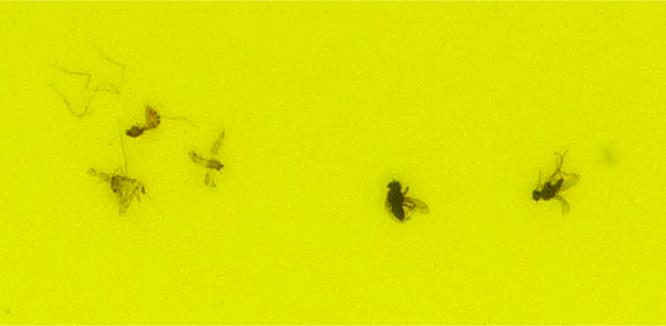Brachycera: (381, 176, 425, 226), (527, 171, 566, 204)
Nematocera: (100, 165, 144, 209), (122, 100, 160, 139), (192, 149, 231, 172)
